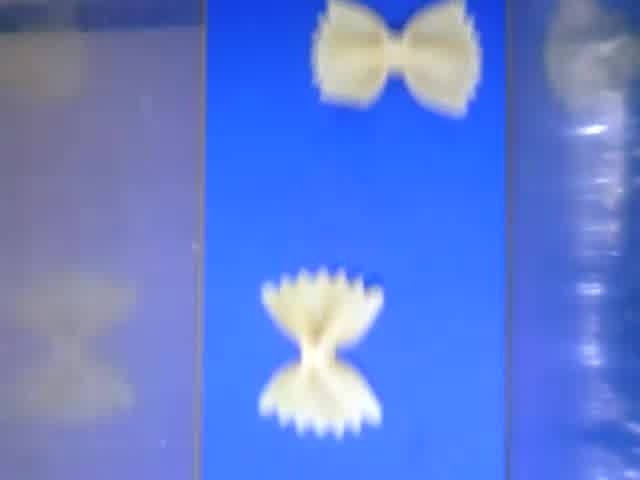farfalle: (259, 265, 386, 441), (308, 1, 483, 118)
